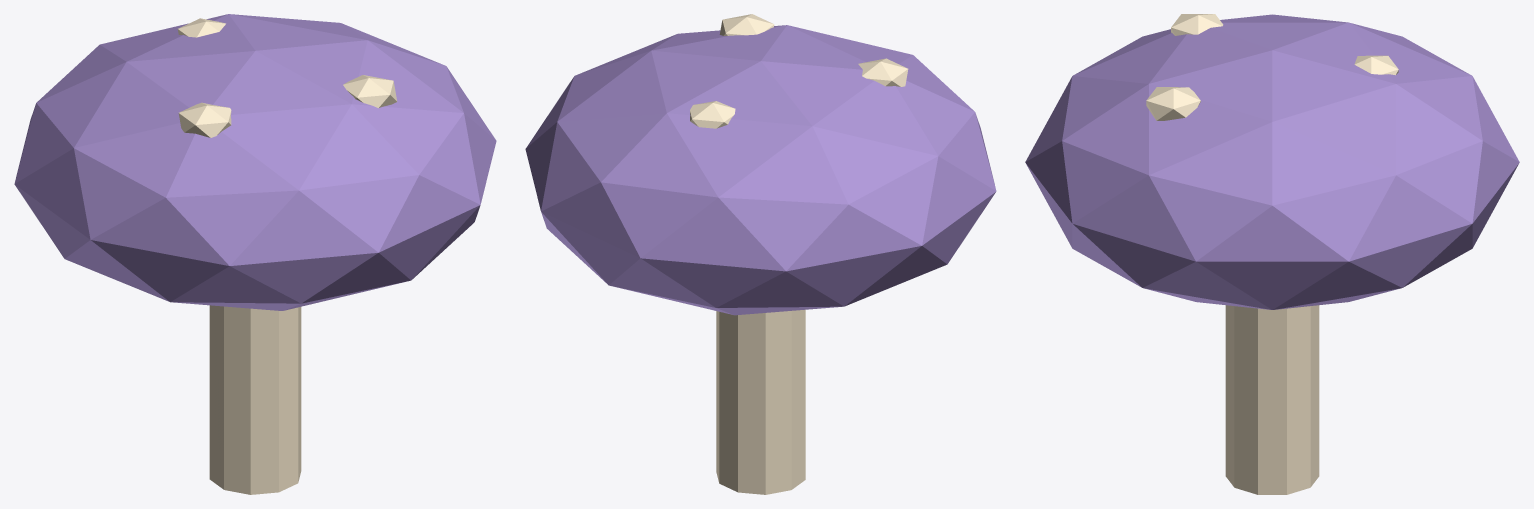
Rendered from giant-mushroom.glb.
3 views of the same model, side by side, from view 1: azimuth 30°, elevation 25°; view 2: azimuth 150°, elevation 25°; view 3: azimuth 270°, elevation 25° (orthographic). The views are drawn at different scales.
Visible parts, largest first — view 1: mushroom-cap, stem, cap-dot, cap-dot.001, cap-dot.002; view 2: mushroom-cap, stem, cap-dot, cap-dot.002, cap-dot.001; view 3: mushroom-cap, stem, cap-dot.001, cap-dot, cap-dot.002.
Part boxes in pixels (bbox=[...]): mushroom-cap: bbox=[14, 14, 496, 310]; stem: bbox=[209, 305, 301, 494]; cap-dot: bbox=[178, 102, 231, 137]; cap-dot.001: bbox=[343, 75, 397, 108]; cap-dot.002: bbox=[177, 18, 225, 37]; mushroom-cap: bbox=[525, 25, 996, 315]; stem: bbox=[716, 309, 805, 494]; cap-dot: bbox=[858, 58, 908, 86]; cap-dot.002: bbox=[690, 101, 735, 128]; cap-dot.001: bbox=[719, 14, 774, 35]; mushroom-cap: bbox=[1025, 14, 1519, 309]; stem: bbox=[1225, 305, 1319, 494]; cap-dot.001: bbox=[1146, 87, 1200, 120]; cap-dot: bbox=[1171, 14, 1223, 35]; cap-dot.002: bbox=[1354, 55, 1398, 75].
Bounding box in the file's own units: 1.9 × 1.9 × 2.
